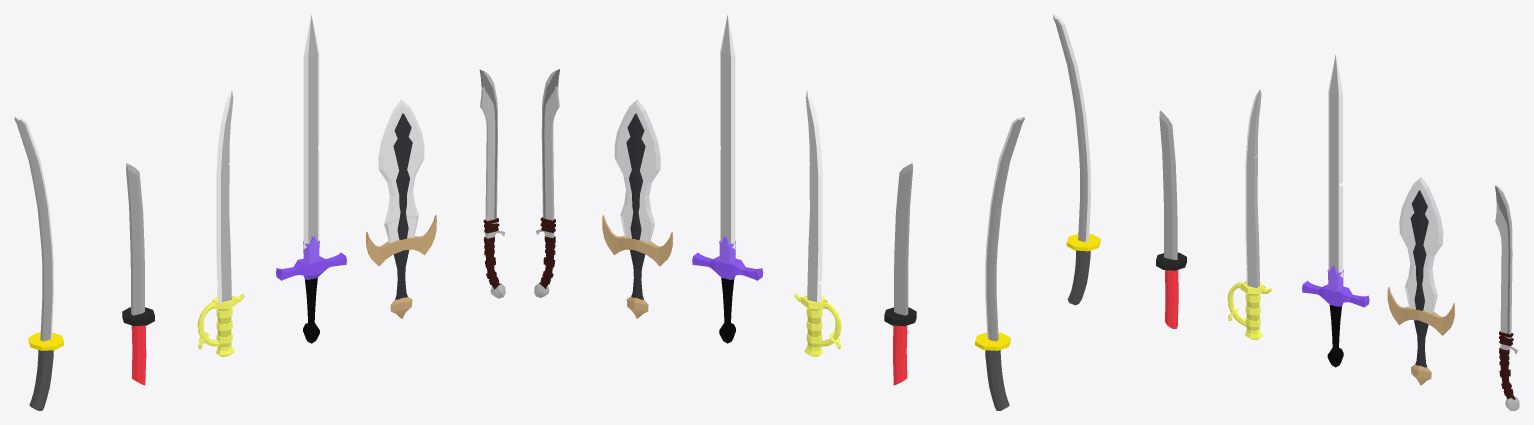
Rendered from sword_set.glb.
The picture shows the model from 3 angles, left to right: view 1: azimuth 30°, elevation 25°; view 2: azimuth 150°, elevation 25°; view 3: azimuth 330°, elevation 25°; orthographic projection. The views are drawn at different scales.
Visible parts, largest first — view 1: Sword_Tut, Fantasy Sword, PirateBlade, Katana, Short Katana, Swashbuckler; view 2: Sword_Tut, Fantasy Sword, PirateBlade, Katana, Short Katana, Swashbuckler; view 3: Sword_Tut, Fantasy Sword, PirateBlade, Katana, Short Katana, Swashbuckler.
Part boxes in pixels (<box>): Sword_Tut: <box>366,99,436,318</box>; Fantasy Sword: <box>276,14,346,343</box>; PirateBlade: <box>197,90,244,356</box>; Katana: <box>14,116,63,410</box>; Short Katana: <box>122,163,154,385</box>; Swashbuckler: <box>479,69,505,298</box>; Sword_Tut: <box>602,99,672,318</box>; Fantasy Sword: <box>692,15,763,343</box>; PirateBlade: <box>794,90,841,356</box>; Katana: <box>975,117,1024,410</box>; Short Katana: <box>884,163,916,385</box>; Swashbuckler: <box>534,69,559,297</box>; Sword_Tut: <box>1387,177,1454,385</box>; Fantasy Sword: <box>1302,54,1369,367</box>; PirateBlade: <box>1227,89,1272,340</box>; Katana: <box>1053,14,1100,305</box>; Short Katana: <box>1156,110,1186,328</box>; Swashbuckler: <box>1495,185,1519,410</box>.
Bounding box in the file's own units: 1105 × 711 × 71.87.
